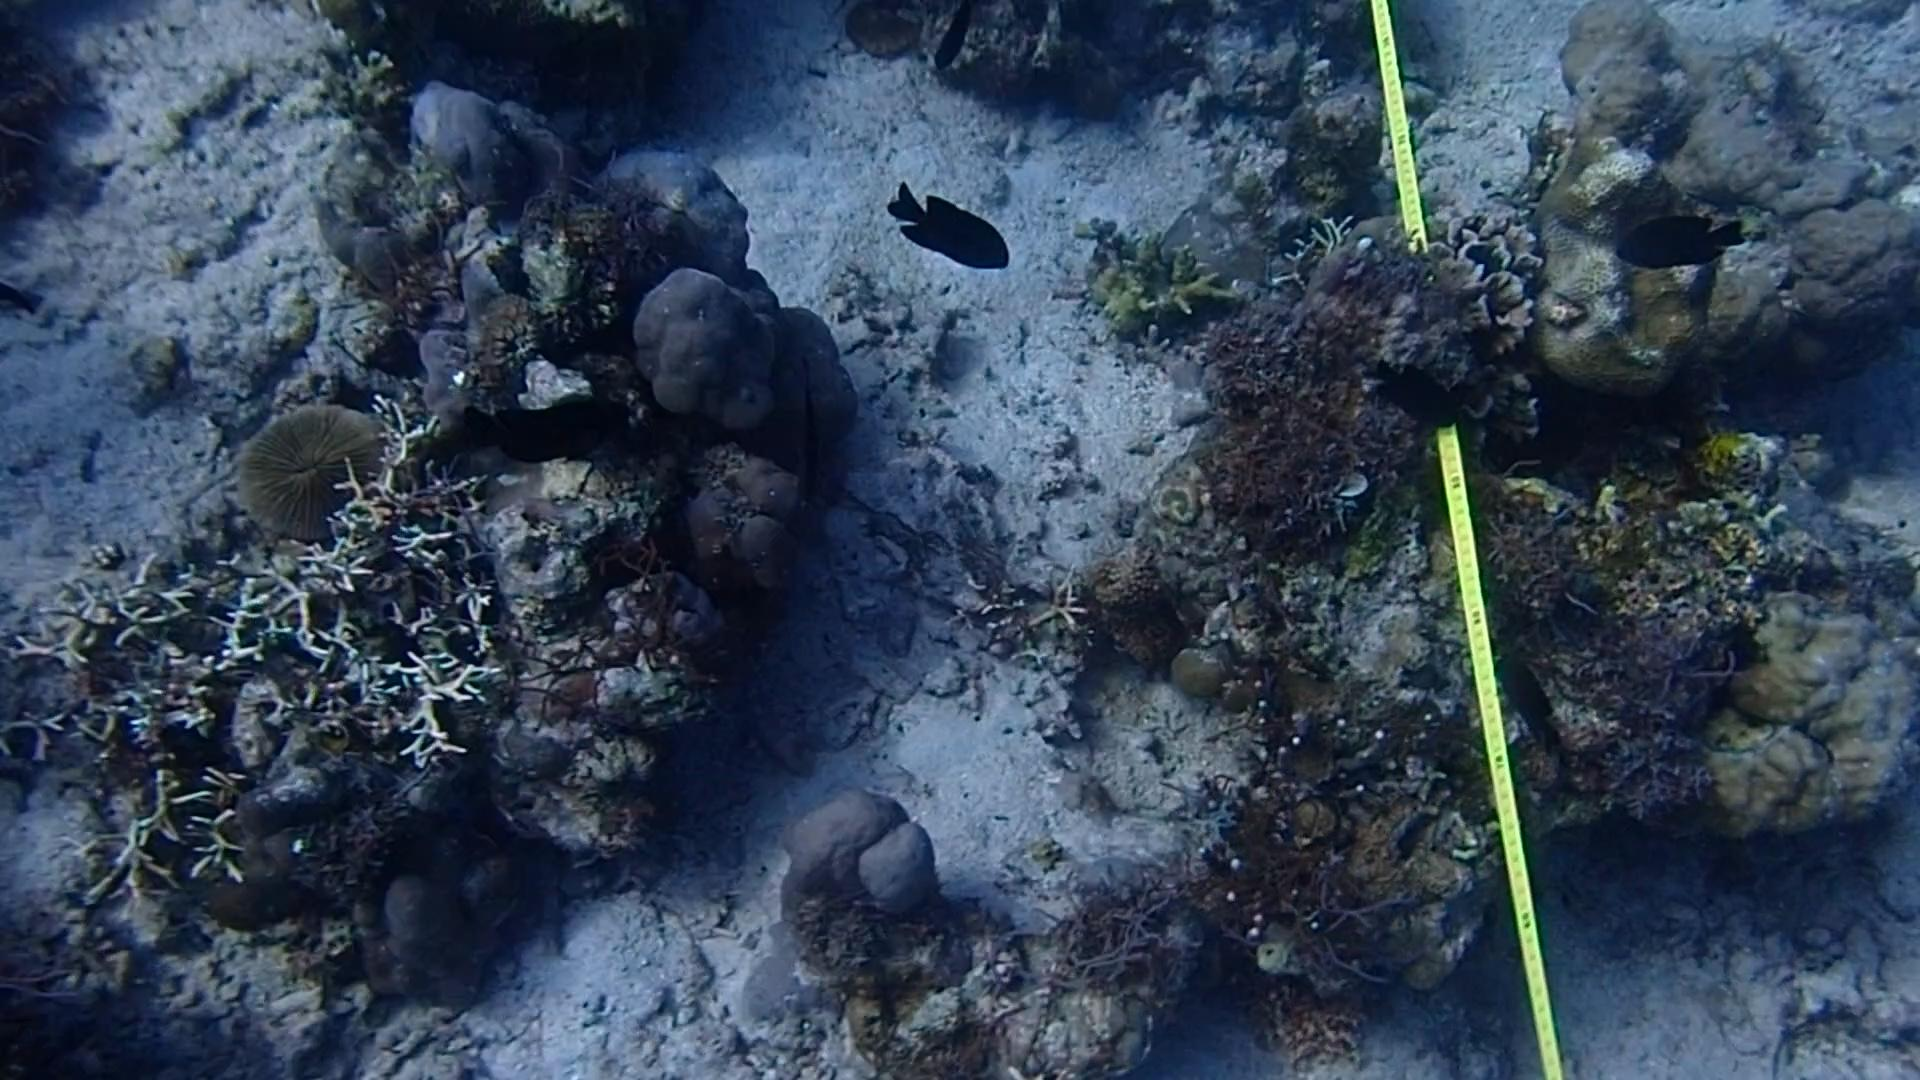Dark Fish: (878, 175, 1022, 297), (468, 371, 626, 477), (1607, 206, 1750, 305), (773, 363, 849, 501), (1490, 644, 1571, 760), (1364, 348, 1462, 440), (922, 0, 992, 80)
